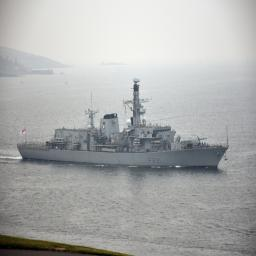Fragata: (16, 76, 232, 174)
